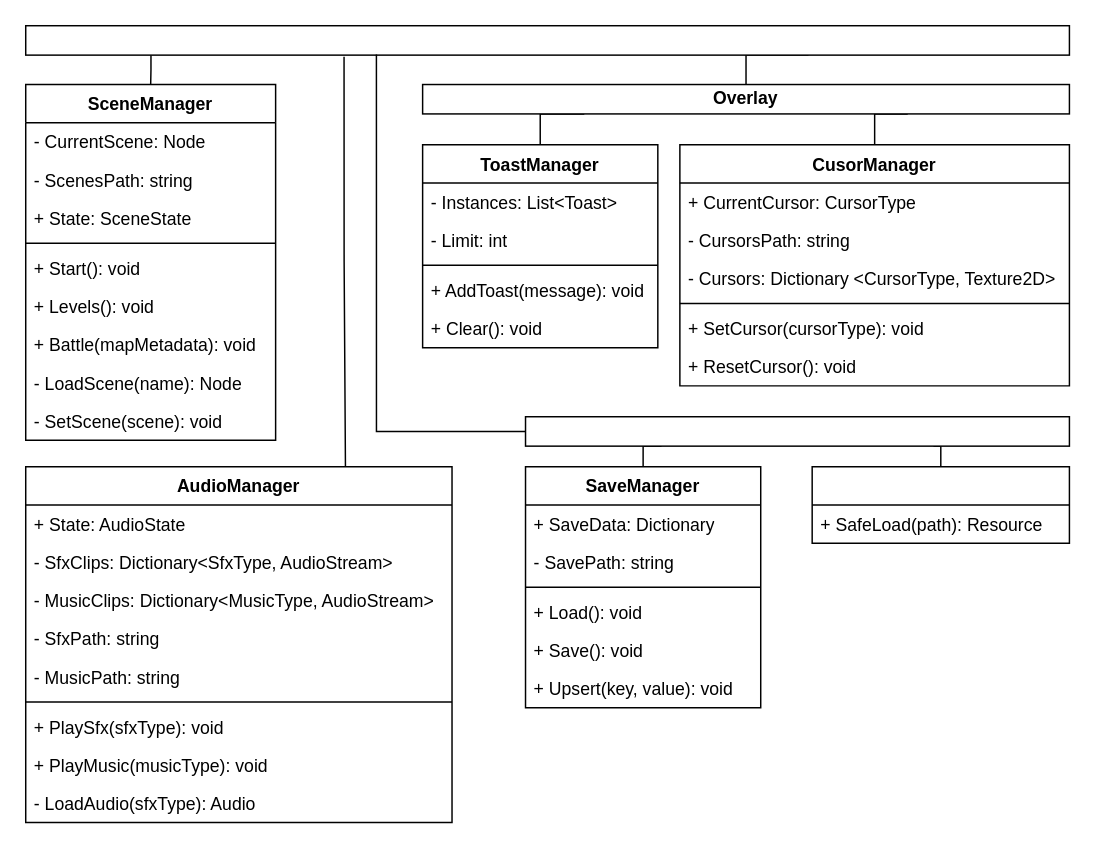
Image size: 1095x853. Some labels were removed from this diagram. The box of each missing label's shape, as (x1, y1, x2, y2) in pixels:
ResourceManager: (811, 465, 1069, 543)
Resources: (524, 415, 1069, 446)
Root: (24, 24, 1069, 55)
